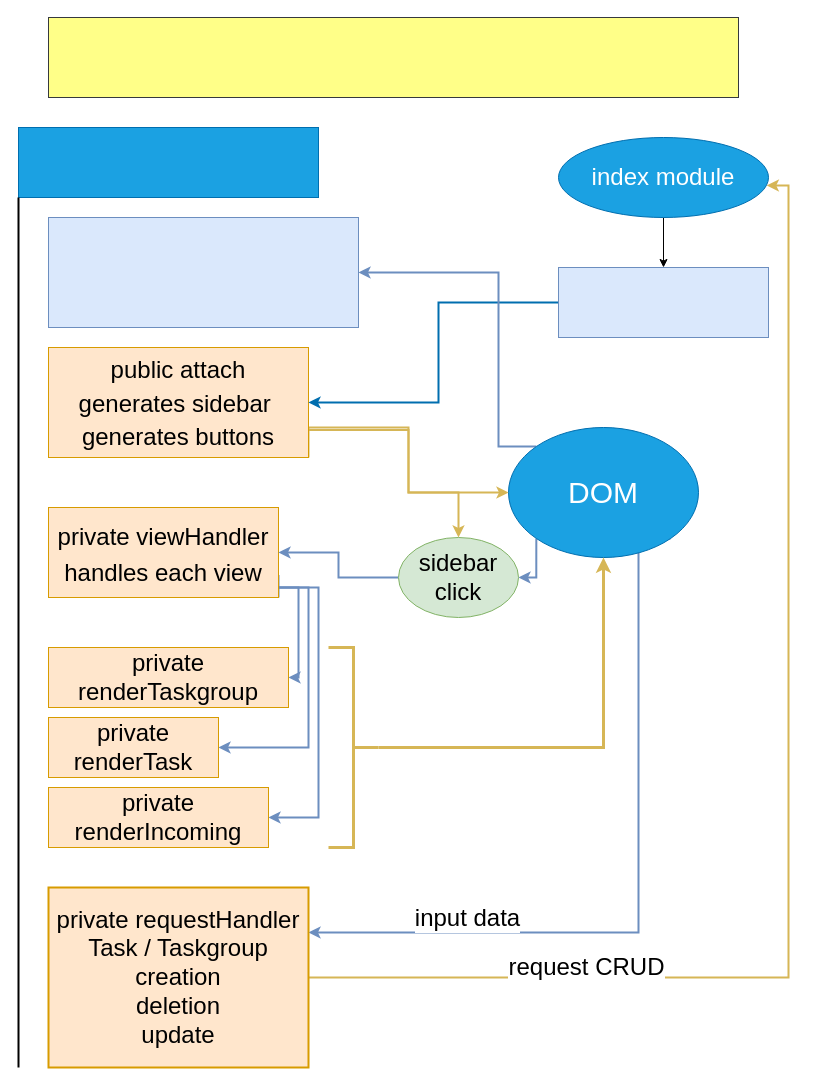
Some shapes in this 814 by 1087 pixel diagram are drawn without their labels. Here are the shapes that lost their labels. From the top down, the centre of each, then its label:
At point 393,57: "DOM Logic".
At point 168,162: "page Module".
At point 203,272: "global DOM elements (querySelectors) in closure".
At point 663,302: "Taskgroup / Task data".
